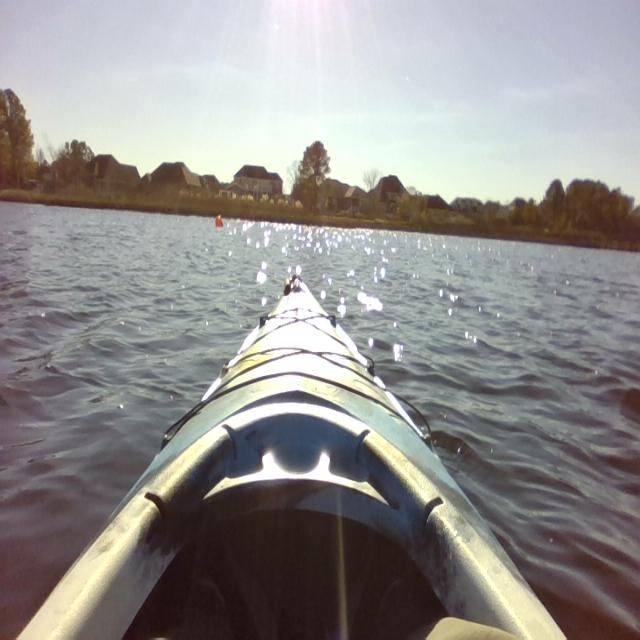Buoy: (211, 210, 228, 233)
